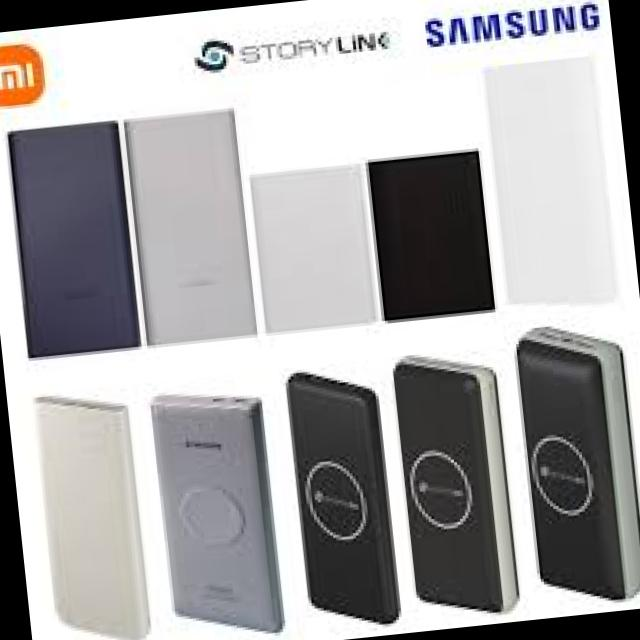power_bank: (503, 313, 640, 614), (384, 343, 528, 622), (150, 380, 292, 640), (482, 56, 622, 312), (4, 122, 143, 359), (284, 361, 406, 630), (32, 385, 157, 640), (124, 108, 258, 340), (361, 147, 498, 320), (250, 161, 384, 332)
